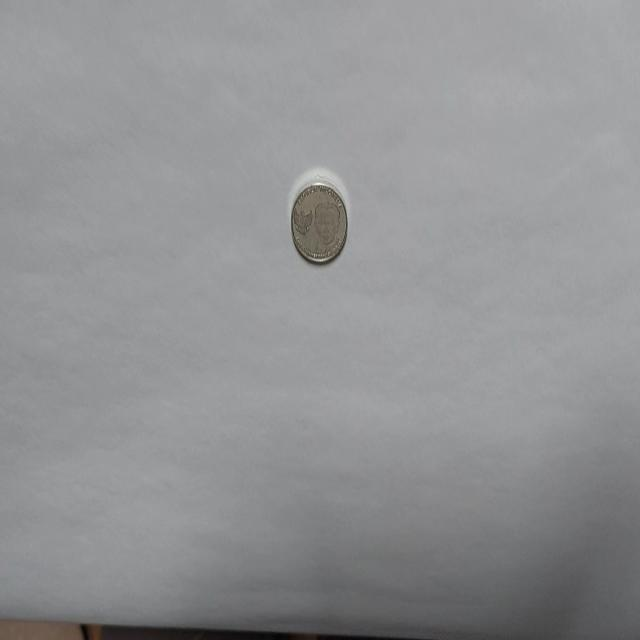seratus rupiah: (290, 179, 348, 265)
